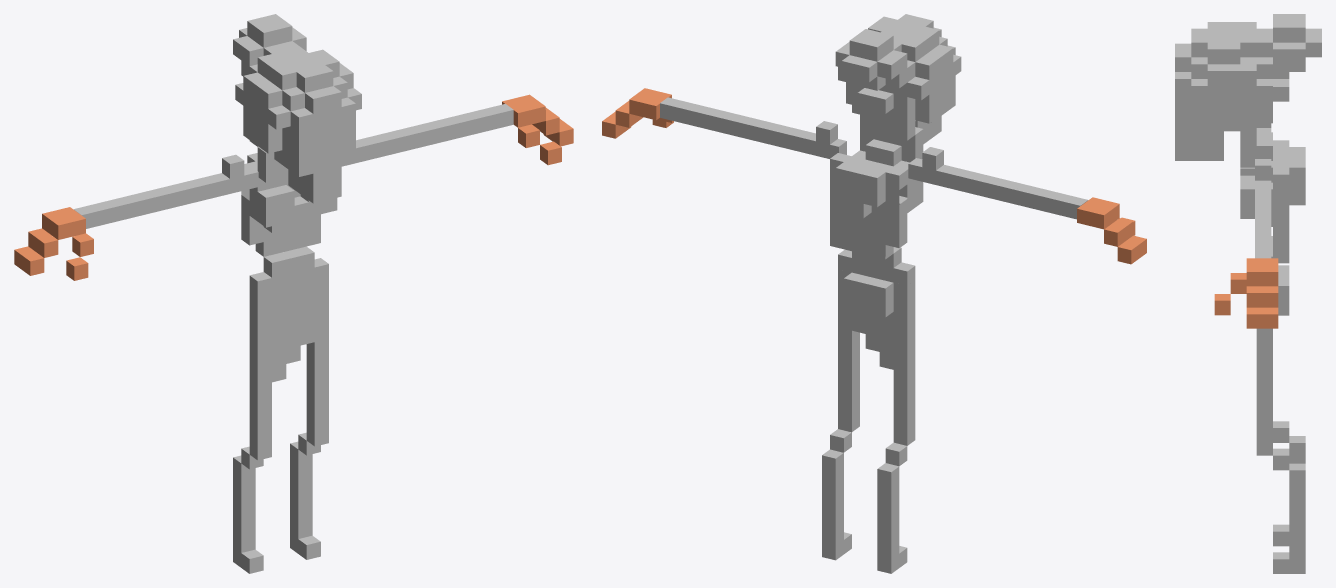
File: Tpose_NoAnim_Medieval_Generic_female.fbx
The picture shows the model from 3 angles, left to right: view 1: azimuth 30°, elevation 25°; view 2: azimuth 150°, elevation 25°; view 3: azimuth 270°, elevation 25°; orthographic projection. The views are drawn at different scales.
Visible parts, largest first — view 1: polySurface752, polySurface764, polySurface761, polySurface763, polySurface765, polySurface652 (×2), polySurface749, polySurface748, polySurface768, polySurface757, polySurface654 (×2), polySurface769 (+6 smaller); view 2: polySurface752, polySurface761, polySurface764, polySurface763, polySurface765, polySurface748, polySurface749, polySurface652 (×2), polySurface768, polySurface757, polySurface769, polySurface756 (+6 smaller); view 3: polySurface752, polySurface761, polySurface765, polySurface749, polySurface652, polySurface767, polySurface746, polySurface748, polySurface654, polySurface768, polySurface764, polySurface757 (+2 smaller).
Boxes of the visible parts, x1=… form: polySurface752: x1=233, y1=14, x2=361, y2=203; polySurface764: x1=249, y1=246, x2=328, y2=382; polySurface761: x1=241, y1=153, x2=337, y2=256; polySurface763: x1=249, y1=291, x2=271, y2=460; polySurface765: x1=306, y1=279, x2=328, y2=446; polySurface652 (×2): x1=14, y1=107, x2=573, y2=275; polySurface749: x1=290, y1=432, x2=320, y2=521; polySurface748: x1=233, y1=446, x2=263, y2=535; polySurface768: x1=356, y1=122, x2=437, y2=161; polySurface757: x1=430, y1=104, x2=513, y2=142; polySurface654 (×2): x1=66, y1=124, x2=561, y2=280; polySurface769: x1=141, y1=175, x2=222, y2=213; polySurface752: x1=835, y1=14, x2=961, y2=166; polySurface761: x1=830, y1=150, x2=923, y2=259; polySurface764: x1=838, y1=247, x2=915, y2=369; polySurface763: x1=893, y1=280, x2=915, y2=445; polySurface765: x1=838, y1=269, x2=859, y2=432; polySurface748: x1=877, y1=442, x2=907, y2=542; polySurface749: x1=822, y1=429, x2=851, y2=529; polySurface652 (×2): x1=602, y1=101, x2=1146, y2=264; polySurface768: x1=734, y1=115, x2=815, y2=154; polySurface757: x1=660, y1=97, x2=741, y2=135; polySurface769: x1=943, y1=166, x2=1022, y2=204; polySurface756: x1=1015, y1=184, x2=1088, y2=219; polySurface752: x1=1175, y1=14, x2=1321, y2=167; polySurface761: x1=1240, y1=140, x2=1305, y2=263; polySurface765: x1=1256, y1=328, x2=1272, y2=455; polySurface749: x1=1273, y1=448, x2=1305, y2=542; polySurface652: x1=1246, y1=286, x2=1278, y2=328; polySurface767: x1=1246, y1=258, x2=1278, y2=286; polySurface746: x1=1273, y1=542, x2=1305, y2=573; polySurface748: x1=1273, y1=421, x2=1305, y2=463; polySurface654: x1=1214, y1=273, x2=1246, y2=315; polySurface768: x1=1255, y1=183, x2=1271, y2=221; polySurface764: x1=1271, y1=236, x2=1289, y2=315; polySurface757: x1=1255, y1=221, x2=1271, y2=258.
Size of the model in its own units: 191 by 180 by 45.1.
